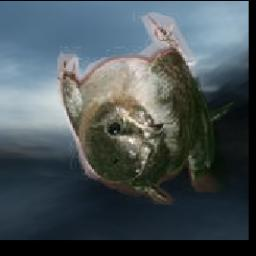Swallow: (59, 10, 239, 205)
